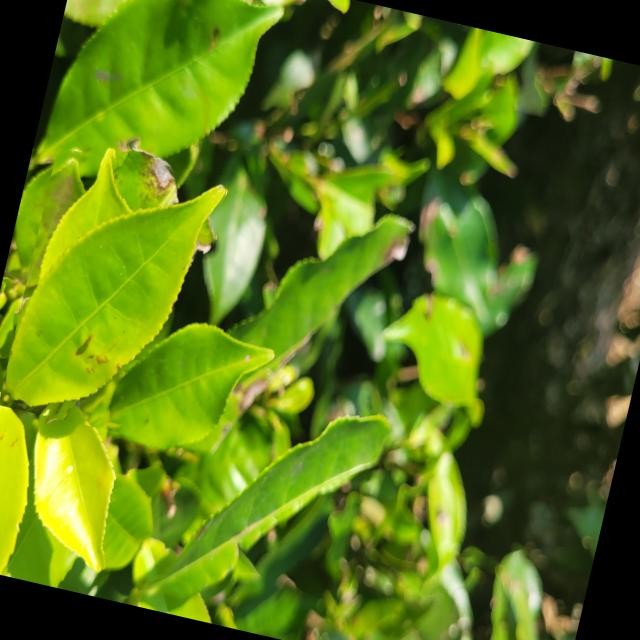Catagory A(1-2 days): (0, 136, 230, 444)
